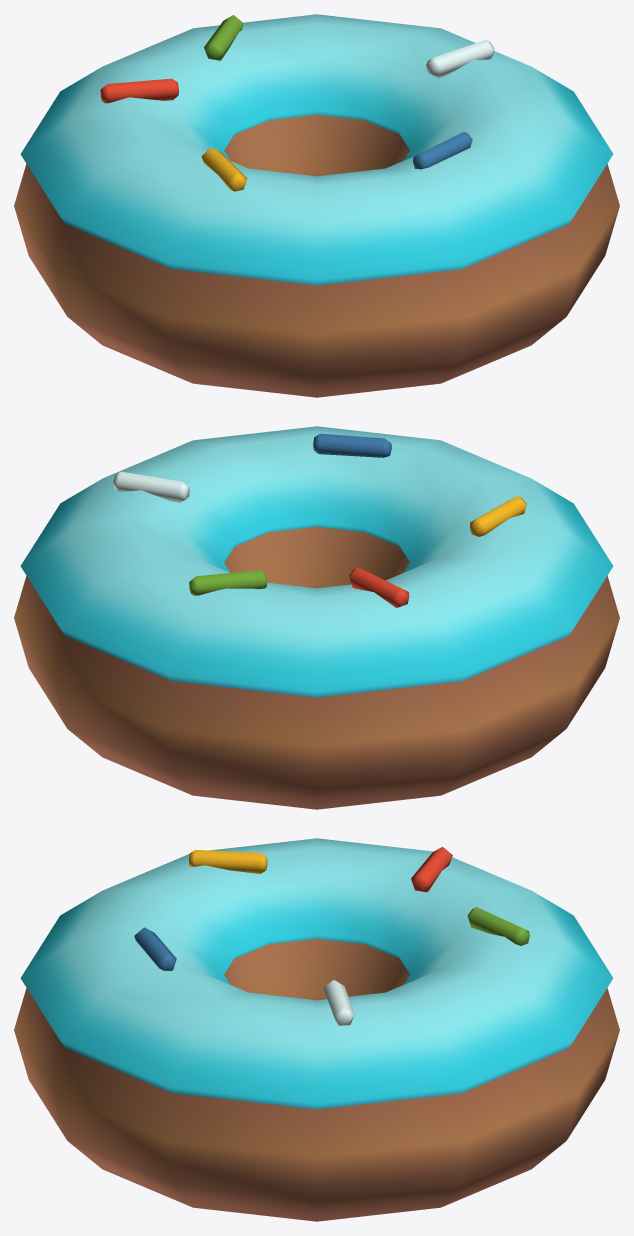
File: Donut.fbx
3 views of the same model, one above another, from view 1: azimuth 30°, elevation 25°; view 2: azimuth 150°, elevation 25°; view 3: azimuth 270°, elevation 25° (orthographic).
Parts seen in each view (by area): view 1: Donut; view 2: Donut; view 3: Donut.
Boxes of the visible parts, <box> form: Donut: <box>14,14,619,397</box>; Donut: <box>14,426,619,809</box>; Donut: <box>14,838,619,1221</box>.
Size of the model in its own units: 25.2 by 9.75 by 25.2.
